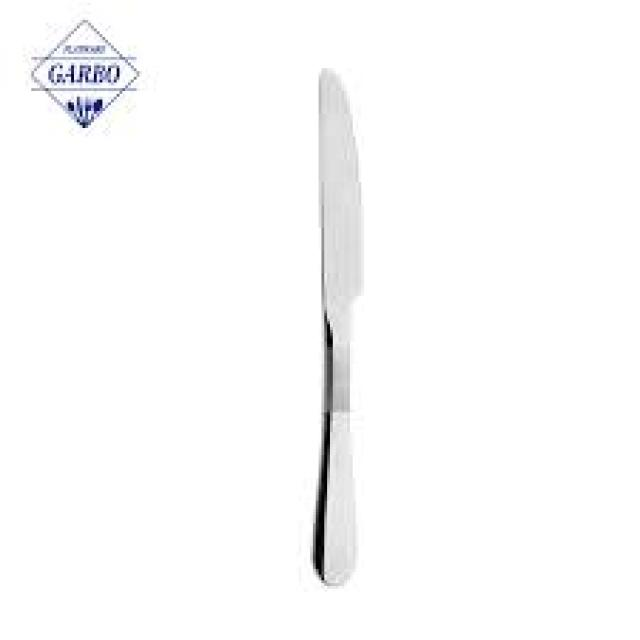Knife: (307, 65, 364, 589)
